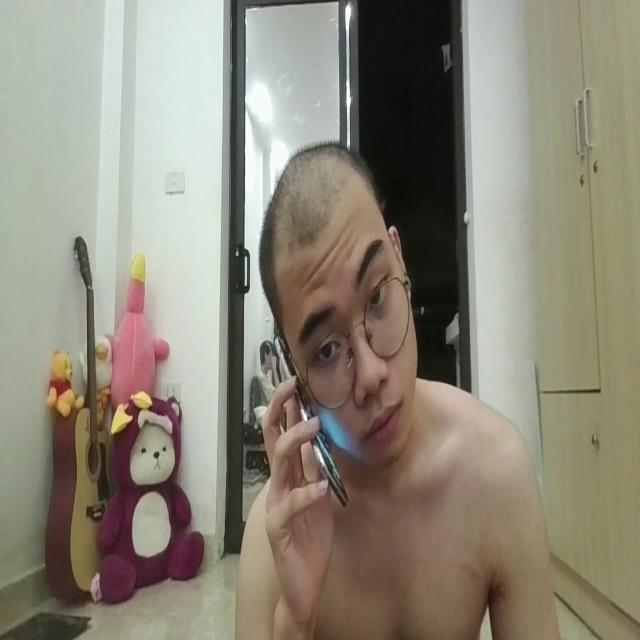phone: (260, 324, 357, 500)
student: (224, 139, 566, 640)
